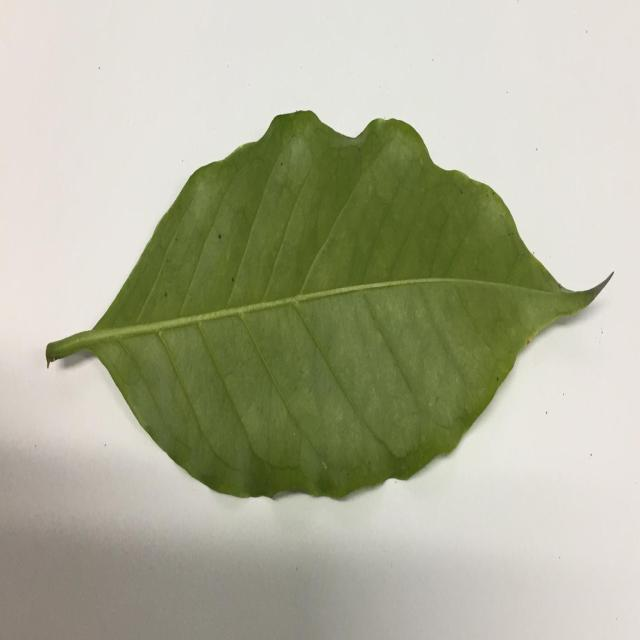nodisease: (46, 111, 612, 499)
